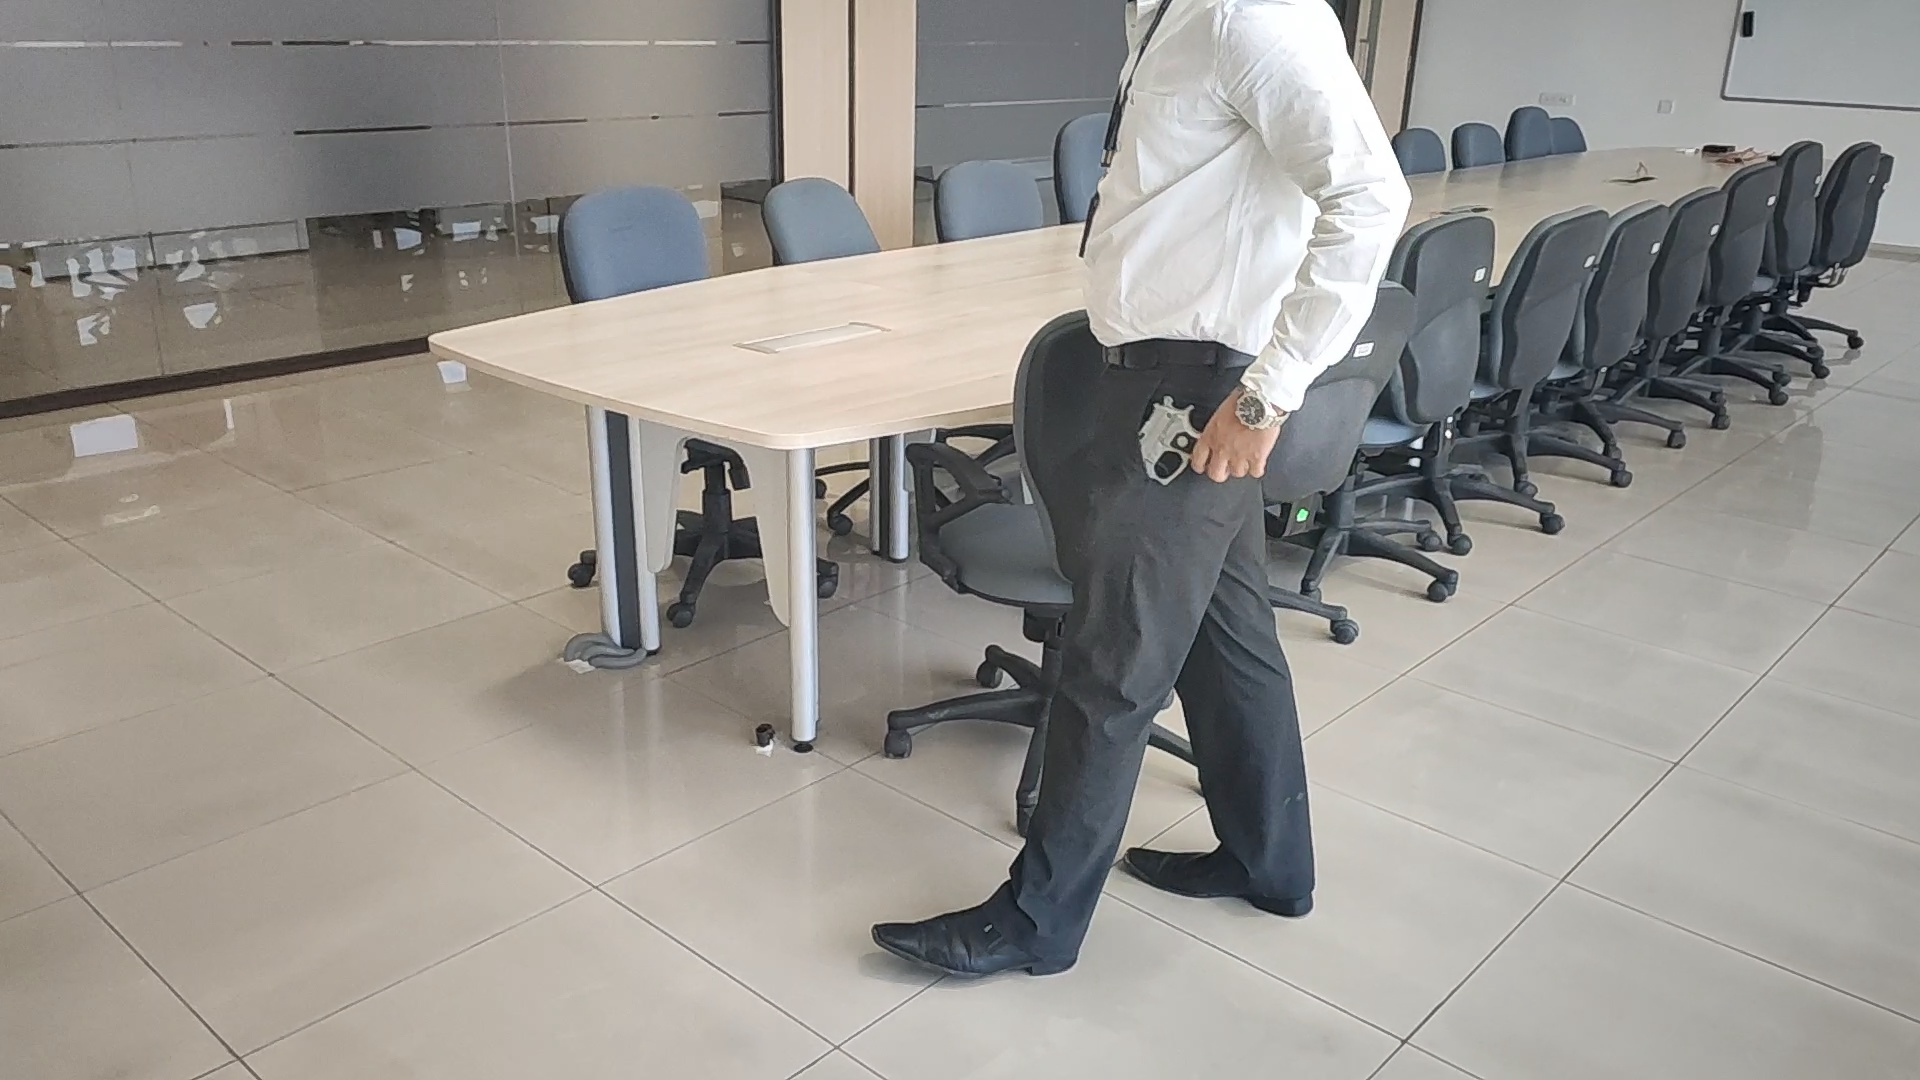gun: (1135, 396, 1205, 487)
